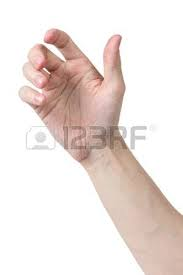hand: (14, 19, 131, 167)
